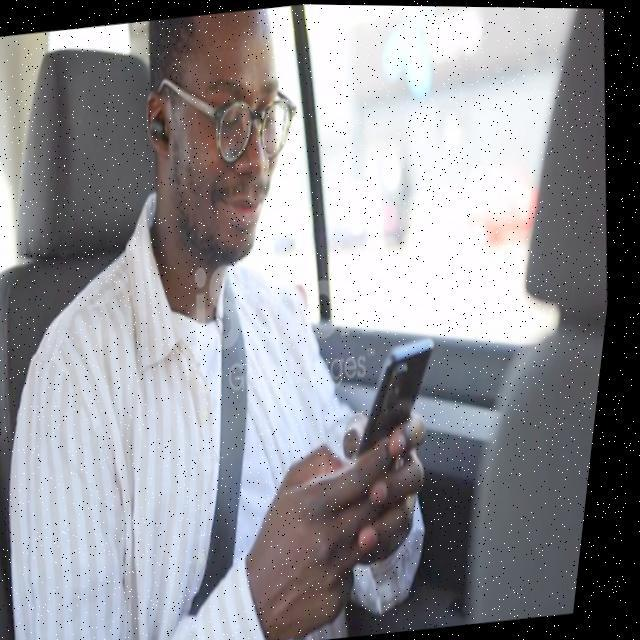PhoneCall: (353, 336, 457, 464)
